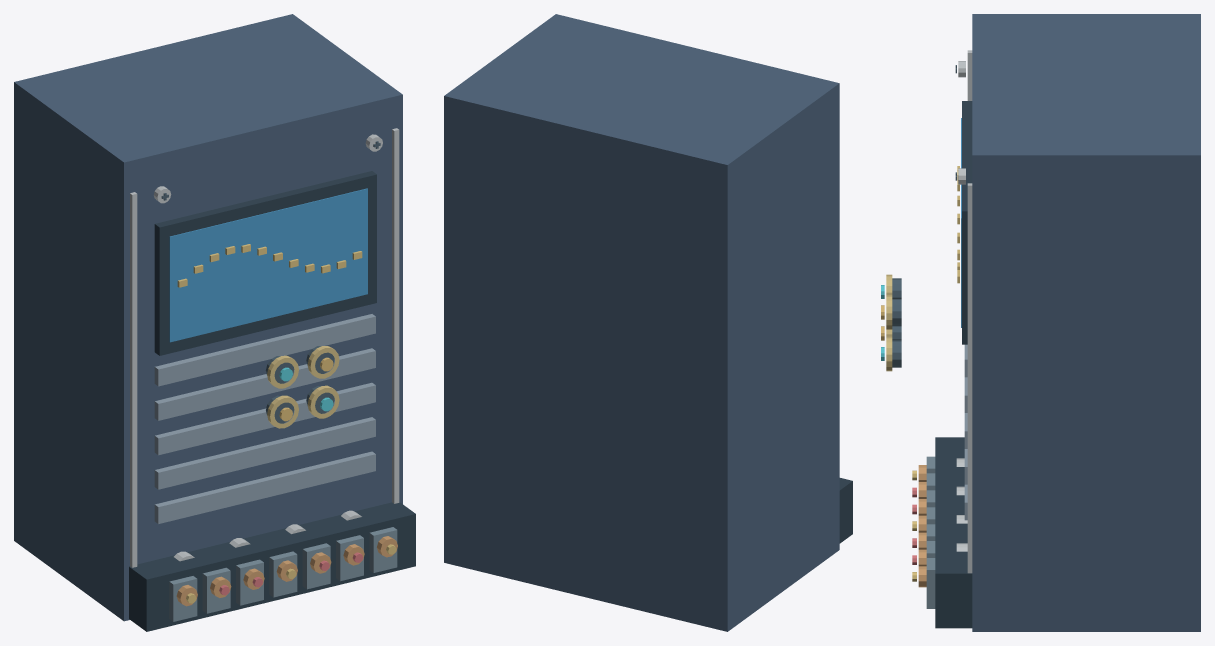
Rendered from 24_L83_MPPTControllerStarboard.glb.
3 views of the same model, side by side, from view 1: azimuth 30°, elevation 25°; view 2: azimuth 150°, elevation 25°; view 3: azimuth 270°, elevation 25° (orthographic). The views are drawn at different scales.
Parts seen in each view (by area): view 1: MPPTControllerStarboard_Node_0000, MPPTControllerStarboard_Node_0008, MPPTControllerStarboard_Node_0046, MPPTControllerStarboard_Node_0007, MPPTControllerStarboard_Node_0021, MPPTControllerStarboard_Node_0022, MPPTControllerStarboard_Node_0025, MPPTControllerStarboard_Node_0024, MPPTControllerStarboard_Node_0023, MPPTControllerStarboard_Node_0005, MPPTControllerStarboard_Node_0006, MPPTControllerStarboard_Node_0050 (+6 smaller); view 2: MPPTControllerStarboard_Node_0000, MPPTControllerStarboard_Node_0046; view 3: MPPTControllerStarboard_Node_0000, MPPTControllerStarboard_Node_0046, MPPTControllerStarboard_Node_0006, MPPTControllerStarboard_Node_0007, MPPTControllerStarboard_Node_0065.
Boxes of the visible parts, x1=… form: MPPTControllerStarboard_Node_0000: x1=14, y1=14, x2=402, y2=621; MPPTControllerStarboard_Node_0008: x1=169, y1=188, x2=367, y2=342; MPPTControllerStarboard_Node_0046: x1=129, y1=502, x2=415, y2=631; MPPTControllerStarboard_Node_0007: x1=154, y1=171, x2=376, y2=355; MPPTControllerStarboard_Node_0021: x1=154, y1=451, x2=375, y2=523; MPPTControllerStarboard_Node_0022: x1=154, y1=417, x2=375, y2=489; MPPTControllerStarboard_Node_0025: x1=154, y1=314, x2=375, y2=386; MPPTControllerStarboard_Node_0024: x1=154, y1=348, x2=375, y2=420; MPPTControllerStarboard_Node_0023: x1=154, y1=382, x2=375, y2=455; MPPTControllerStarboard_Node_0005: x1=130, y1=192, x2=137, y2=567; MPPTControllerStarboard_Node_0006: x1=392, y1=128, x2=399, y2=503; MPPTControllerStarboard_Node_0050: x1=202, y1=567, x2=230, y2=613; MPPTControllerStarboard_Node_0000: x1=444, y1=14, x2=839, y2=631; MPPTControllerStarboard_Node_0046: x1=839, y1=478, x2=852, y2=543; MPPTControllerStarboard_Node_0000: x1=972, y1=14, x2=1200, y2=631; MPPTControllerStarboard_Node_0046: x1=935, y1=437, x2=972, y2=628; MPPTControllerStarboard_Node_0006: x1=967, y1=183, x2=972, y2=573; MPPTControllerStarboard_Node_0007: x1=962, y1=101, x2=972, y2=344; MPPTControllerStarboard_Node_0065: x1=926, y1=558, x2=935, y2=608.
Size of the model in its own units: 1.17 by 1.84 by 1.12.
